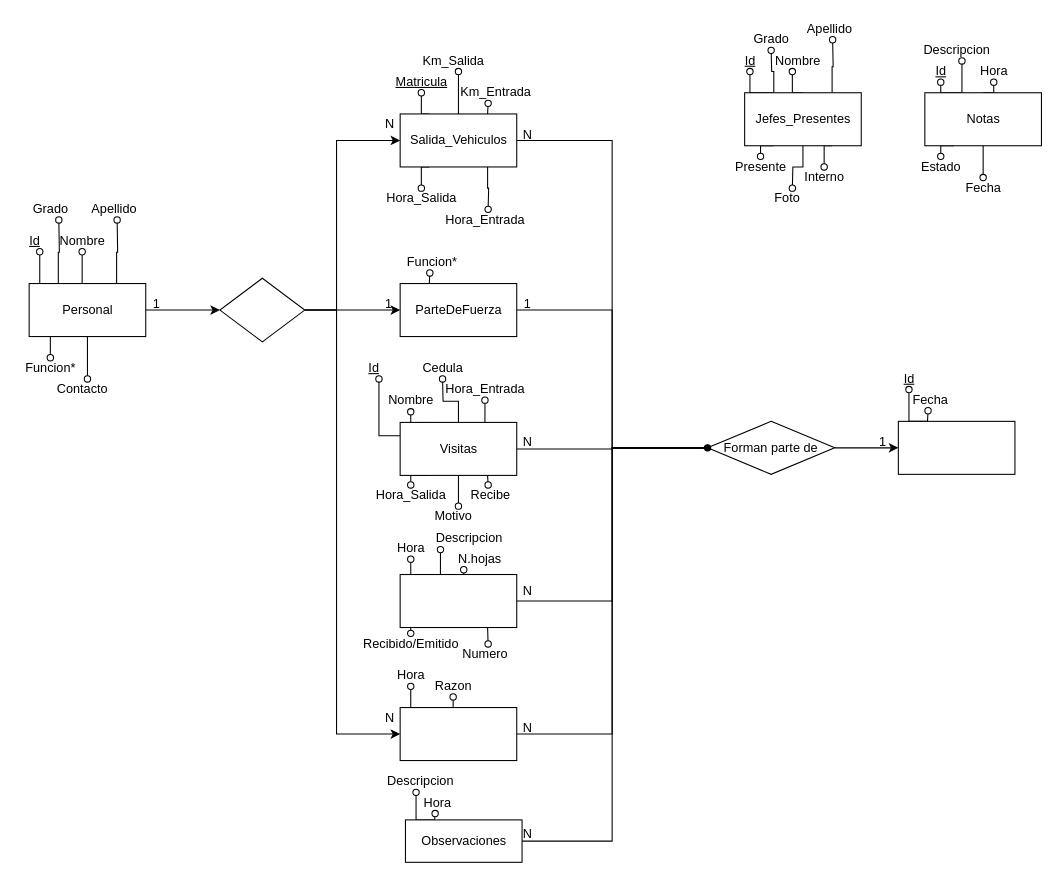
This 1060x881 diagram has some shape labels left out. Each missing label, with the box of its shape:
Faxes: (399, 573, 517, 628)
Llamadas: (399, 706, 517, 761)
Novedades: (897, 420, 1015, 474)
Puede ser: (219, 277, 305, 342)
